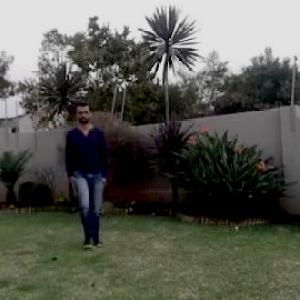follow: (68, 99, 111, 244)
